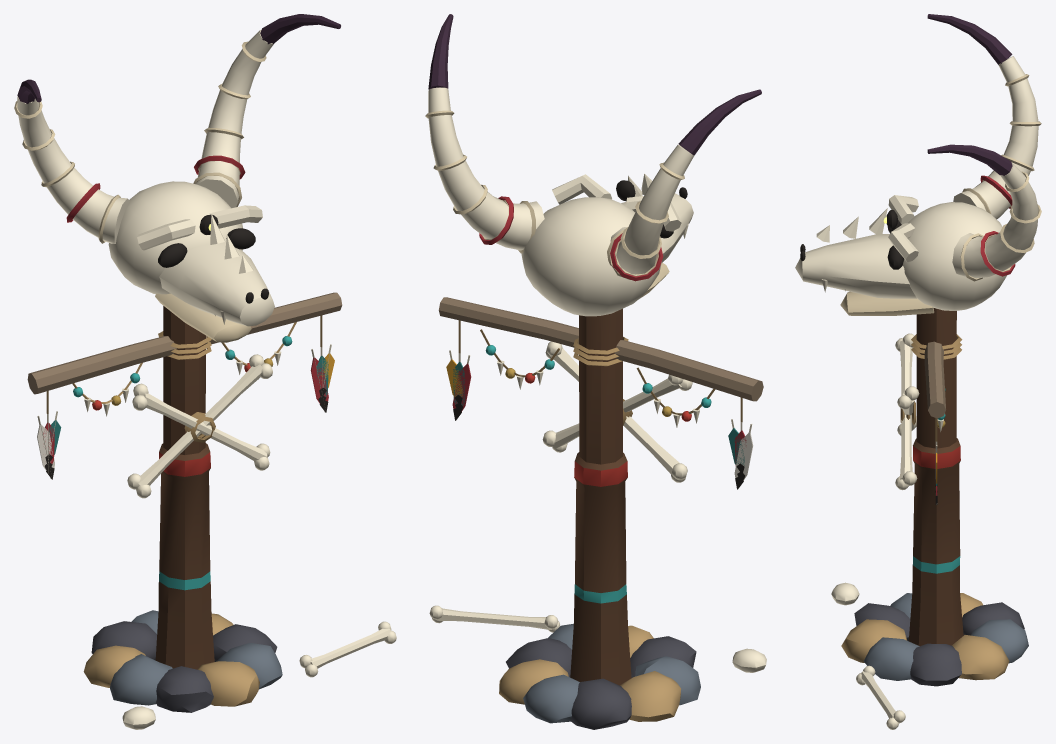
The model's file is deco_trophy_post.fbx.
3 views of the same model, side by side, from view 1: azimuth 30°, elevation 25°; view 2: azimuth 150°, elevation 25°; view 3: azimuth 270°, elevation 25° (orthographic). The views are drawn at different scales.
Parts seen in each view (by area): view 1: TrophyPost_Post, TrophyPost_Skull, TrophyPost_Horns, TrophyPost_Trinkets; view 2: TrophyPost_Post, TrophyPost_Horns, TrophyPost_Skull, TrophyPost_Trinkets; view 3: TrophyPost_Post, TrophyPost_Skull, TrophyPost_Horns, TrophyPost_Trinkets.
Part boxes in pixels (left/top/right/bottom): TrophyPost_Post: left=27, top=292, right=342, bottom=712; TrophyPost_Skull: left=108, top=181, right=274, bottom=342; TrophyPost_Horns: left=14, top=14, right=340, bottom=243; TrophyPost_Trinkets: left=37, top=315, right=396, bottom=729; TrophyPost_Post: left=438, top=297, right=763, bottom=729; TrophyPost_Horns: left=425, top=14, right=761, bottom=281; TrophyPost_Skull: left=521, top=173, right=693, bottom=316; TrophyPost_Trinkets: left=429, top=320, right=766, bottom=672; TrophyPost_Post: left=841, top=308, right=1028, bottom=686; TrophyPost_Skull: left=795, top=195, right=1007, bottom=315; TrophyPost_Horns: left=927, top=14, right=1041, bottom=281; TrophyPost_Trinkets: left=831, top=333, right=945, bottom=729.
Bounding box in the file's own units: 179 × 310 × 122.
